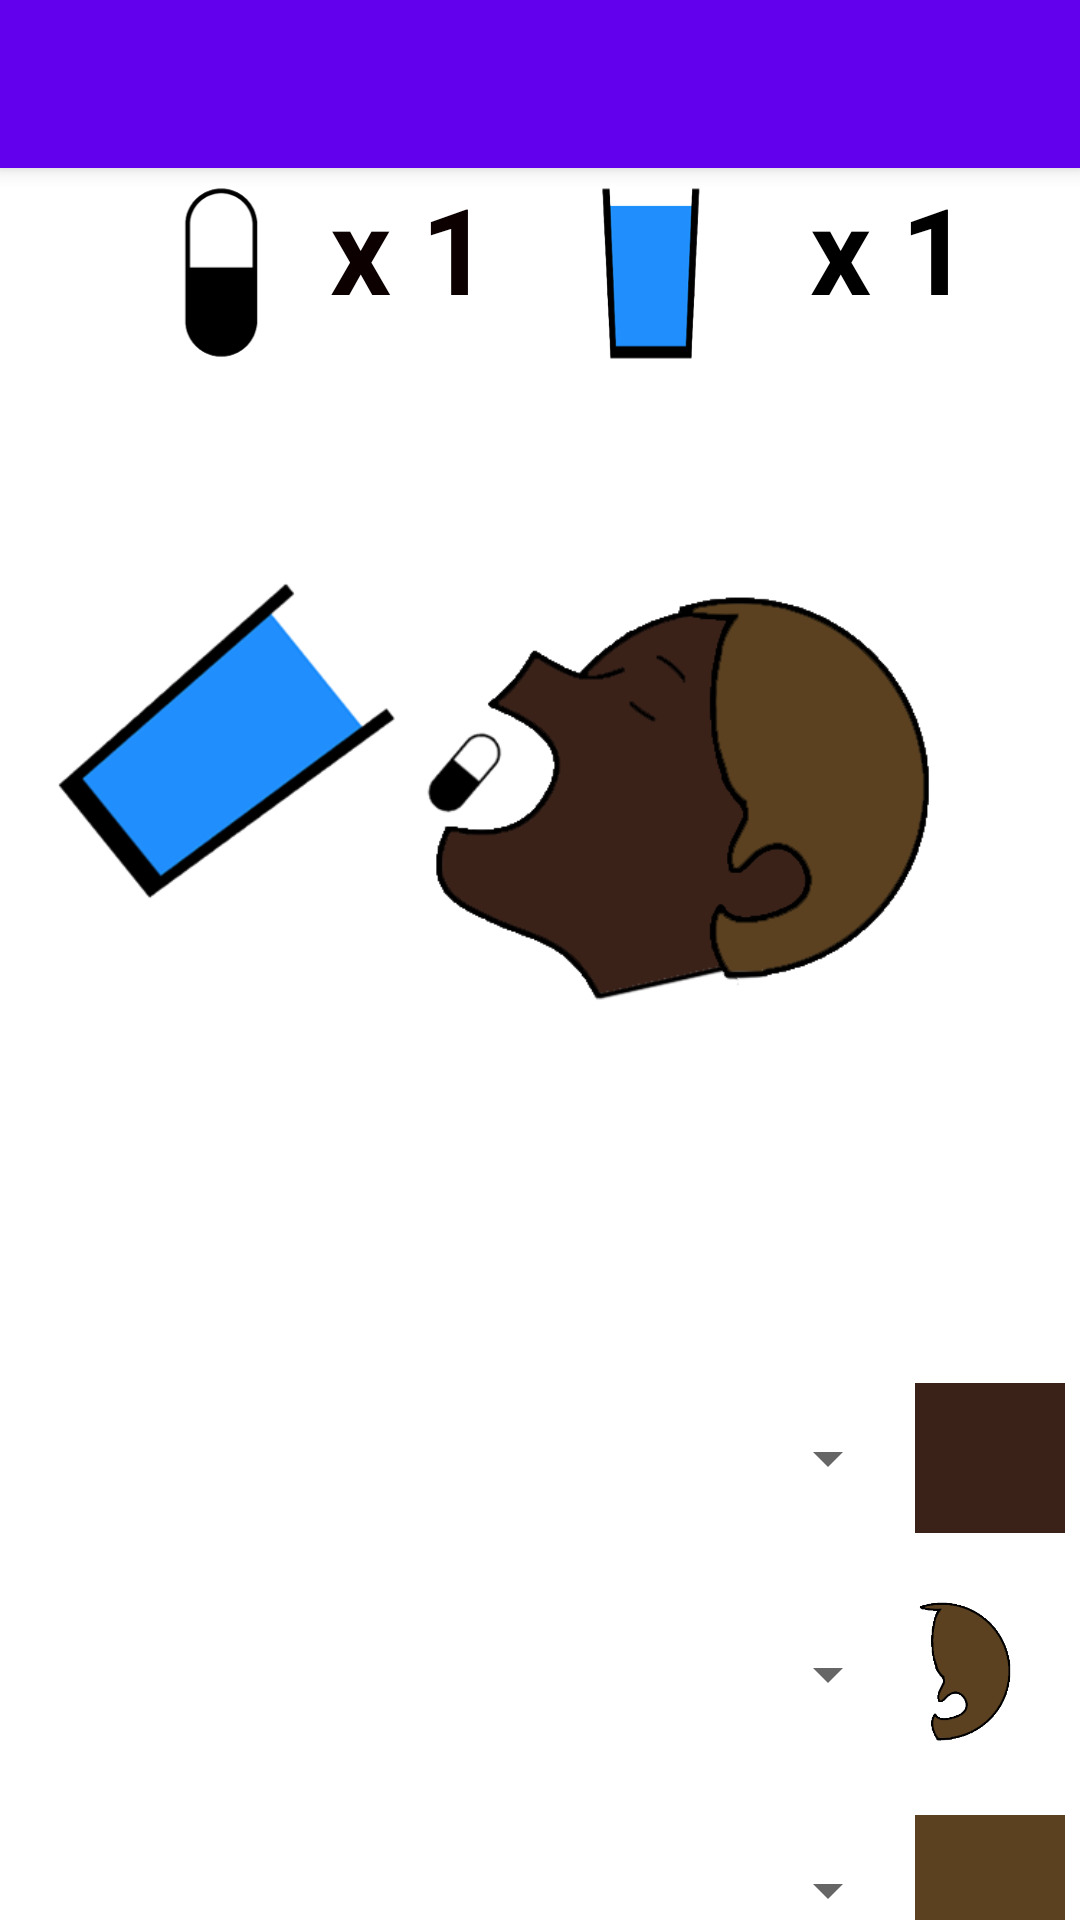

Named icons in this screenshot (1080 × 1920) and their centers, [x,y]:
hairstyle: [965,1671]
pill: [221,272]
water: [651,273]
